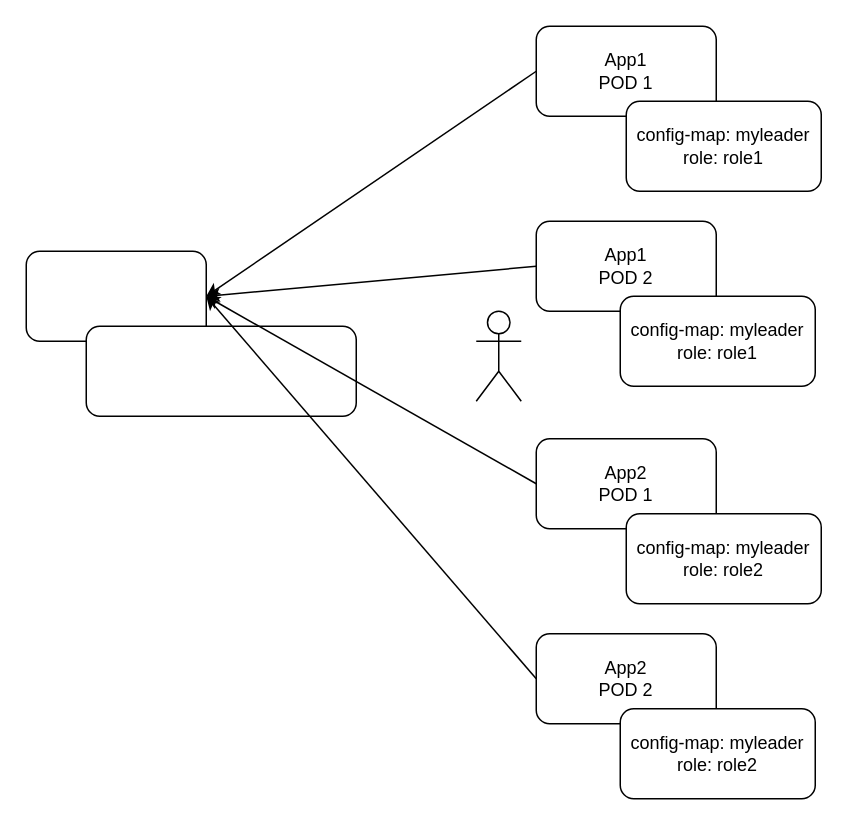
Image size: 848x825. Some labels were removed from this diagram. The centre of each missing label's shape, as x and y in pixels:
Config Map myleader: (x=115, y=295)
service account: (x=498, y=355)
{ leader.id.role1: pod-name leader.id.role2: pod-name }: (x=220, y=370)
